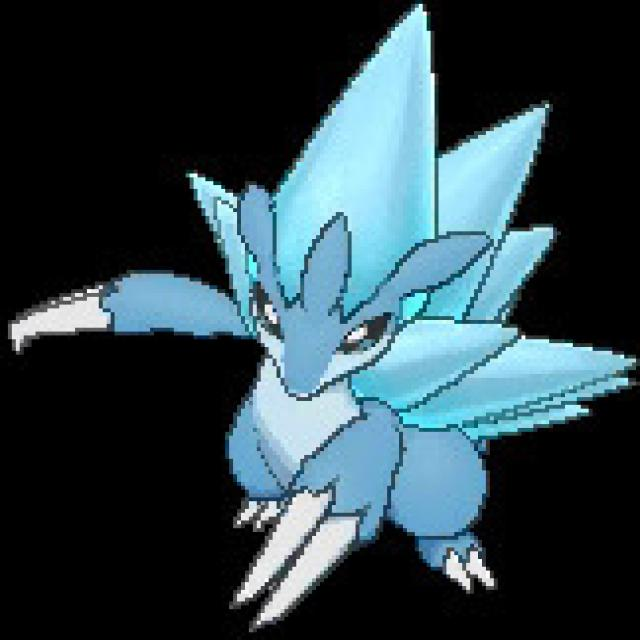Alolan: (174, 8, 576, 601)
